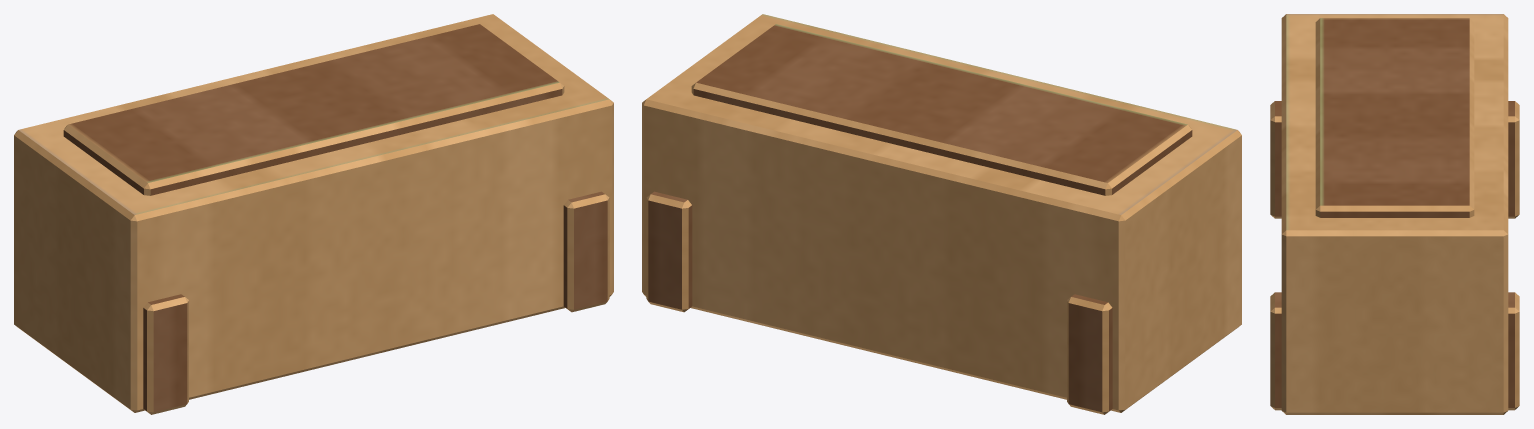
Rendered from sm_prop_water_trough.glb.
3 views of the same model, side by side, from view 1: azimuth 30°, elevation 25°; view 2: azimuth 150°, elevation 25°; view 3: azimuth 270°, elevation 25° (orthographic). The views are drawn at different scales.
Parts seen in each view (by area): view 1: sm_prop_water_trough; view 2: sm_prop_water_trough; view 3: sm_prop_water_trough.
Part boxes in pixels (bbox=[...]): sm_prop_water_trough: bbox=[14, 14, 613, 414]; sm_prop_water_trough: bbox=[642, 14, 1241, 414]; sm_prop_water_trough: bbox=[1270, 14, 1519, 414].
Size of the model in its own units: 0.46 by 0.19 by 0.22.
Materials: 1 (1 with a texture image).
